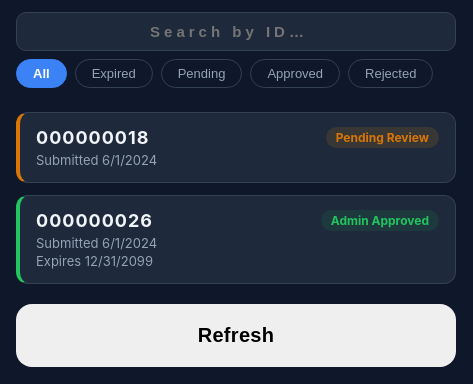
Test: MySubmissions — search › shows all cards when search is cleared
The image size is (473, 384).
Expected: the text "000000018" is shown, [36,127,150,148]
Type "26" into the search field with placeholder "Search by ID…".
click(236, 32); type("26")  # box [16,12,456,51]
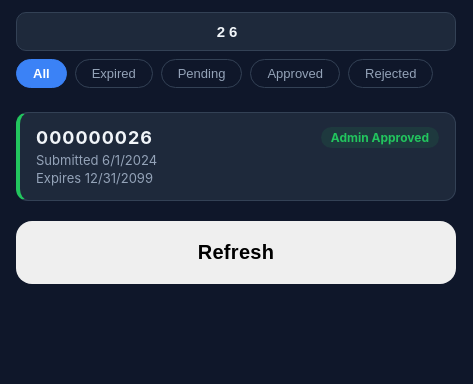
Clear the search field at (236, 32), box [16,12,456,51]
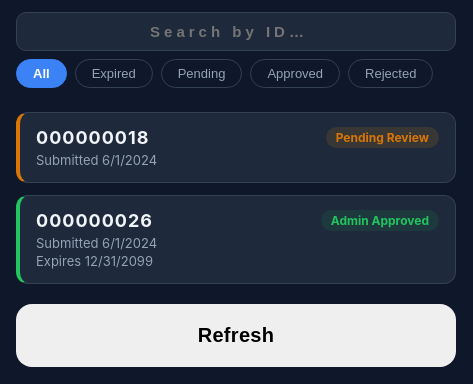
Expected: the text "000000026" is shown, [36,210,153,231]
Expected: the text "000000018" is shown, [36,127,150,148]
